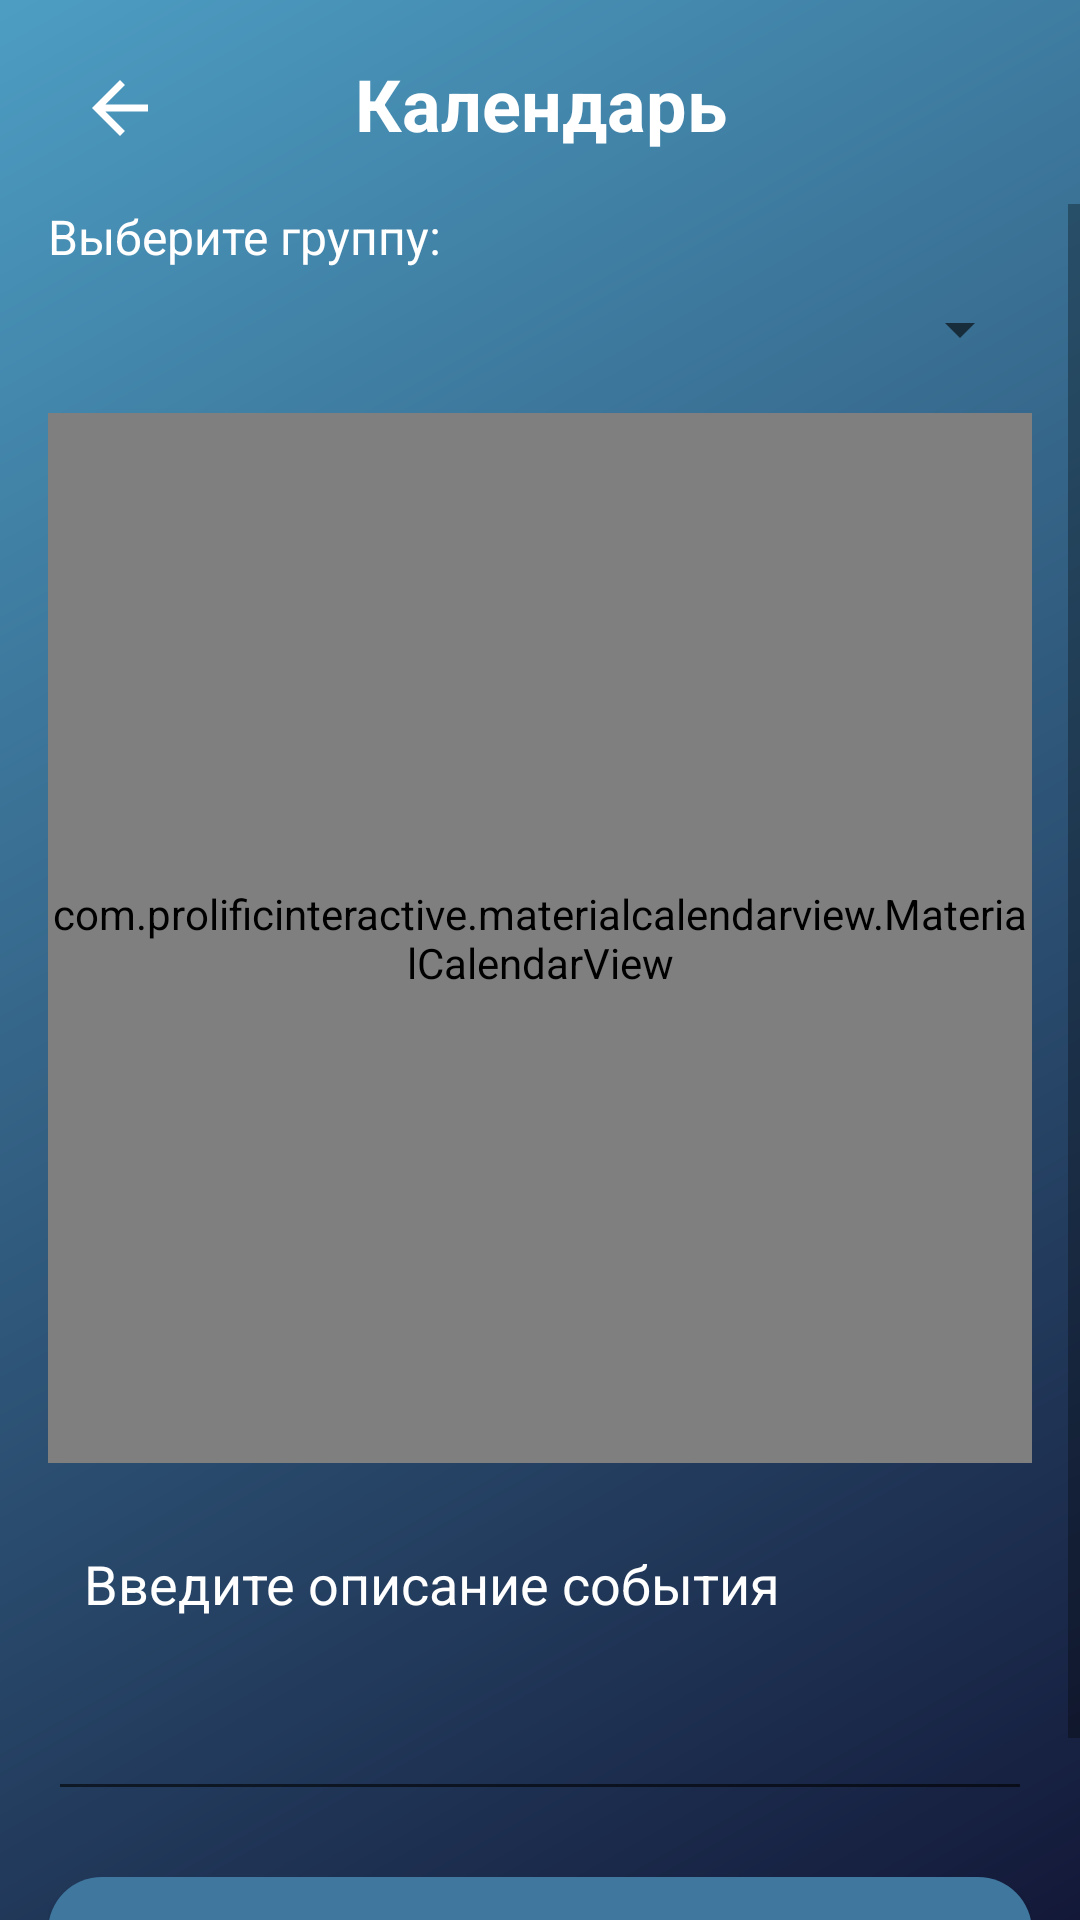

Icons on this 1080 × 1920 Android screen, each with its box as (x1, y1, x2, y2):
Назад: (92, 80, 148, 136)
